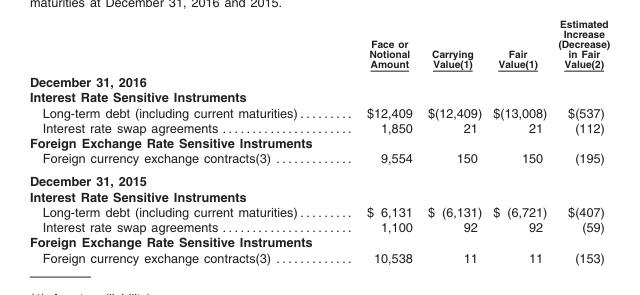table: (28, 29, 609, 264)
table column: (28, 29, 331, 264), (331, 29, 419, 264), (419, 29, 486, 264), (486, 29, 551, 264), (551, 29, 609, 264)
table column header: (28, 29, 609, 72)
table projected row header: (28, 170, 609, 189), (28, 72, 609, 90), (28, 135, 609, 151), (28, 90, 609, 105), (28, 189, 609, 204), (28, 235, 609, 250)
table row: (28, 29, 609, 72), (28, 151, 609, 170), (28, 170, 609, 189), (28, 72, 609, 90), (28, 135, 609, 151), (28, 219, 609, 235), (28, 90, 609, 105), (28, 105, 609, 120), (28, 120, 609, 135), (28, 189, 609, 204), (28, 204, 609, 219), (28, 235, 609, 250), (28, 250, 609, 264)
